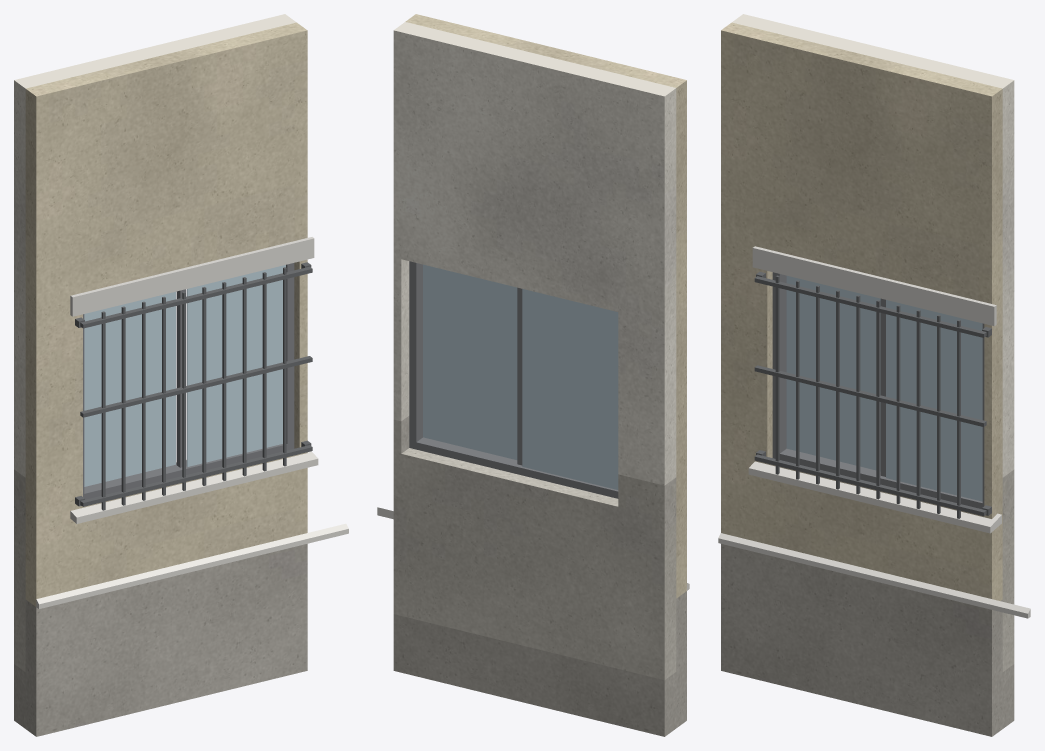
File: o_win_r_eb.glb
The picture shows the model from 3 angles, left to right: view 1: azimuth 30°, elevation 25°; view 2: azimuth 150°, elevation 25°; view 3: azimuth 330°, elevation 25°; orthographic projection.
Parts seen in each view (by area): view 1: o_win_r_eb_render, o_win_r_eb_concrete, o_win_r_eb_glass, o_win_r_eb_iron, o_win_r_eb_coping, o_win_r_eb_plaster, o_win_r_eb_frame, o_win_r_eb_tile_a; view 2: o_win_r_eb_plaster, o_win_r_eb_tile_a, o_win_r_eb_glass, o_win_r_eb_concrete, o_win_r_eb_render, o_win_r_eb_frame; view 3: o_win_r_eb_render, o_win_r_eb_concrete, o_win_r_eb_glass, o_win_r_eb_iron, o_win_r_eb_coping, o_win_r_eb_plaster, o_win_r_eb_frame, o_win_r_eb_tile_a.
Boxes of the visible parts, x1,y1,x2,y2 form: o_win_r_eb_render: [25, 22, 307, 606]; o_win_r_eb_concrete: [14, 544, 307, 736]; o_win_r_eb_glass: [84, 265, 285, 486]; o_win_r_eb_iron: [75, 262, 312, 510]; o_win_r_eb_coping: [36, 237, 348, 608]; o_win_r_eb_plaster: [14, 14, 296, 477]; o_win_r_eb_frame: [83, 263, 294, 499]; o_win_r_eb_tile_a: [14, 459, 186, 671]; o_win_r_eb_plaster: [393, 22, 676, 485]; o_win_r_eb_tile_a: [393, 416, 676, 680]; o_win_r_eb_glass: [423, 264, 618, 489]; o_win_r_eb_concrete: [393, 591, 686, 736]; o_win_r_eb_render: [405, 14, 686, 598]; o_win_r_eb_frame: [409, 261, 618, 498]; o_win_r_eb_render: [721, 22, 1002, 600]; o_win_r_eb_concrete: [721, 544, 1014, 736]; o_win_r_eb_glass: [786, 275, 982, 501]; o_win_r_eb_iron: [754, 271, 991, 518]; o_win_r_eb_coping: [718, 246, 1030, 618]; o_win_r_eb_plaster: [732, 14, 1014, 477]; o_win_r_eb_frame: [772, 272, 984, 508]; o_win_r_eb_tile_a: [1002, 469, 1014, 671].
Bounding box in the file's own units: 2 × 3.95 × 0.324.
8 materials, 4 textured.
